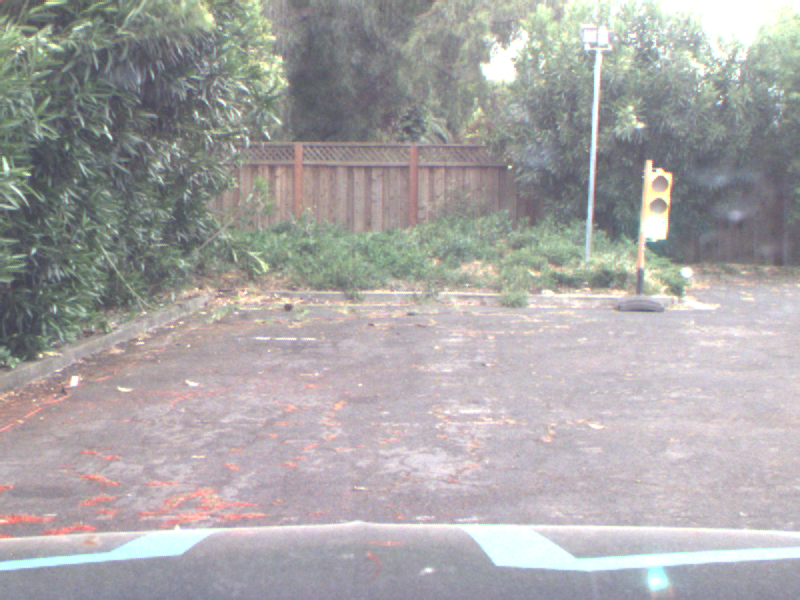Green: (647, 167, 670, 240)
